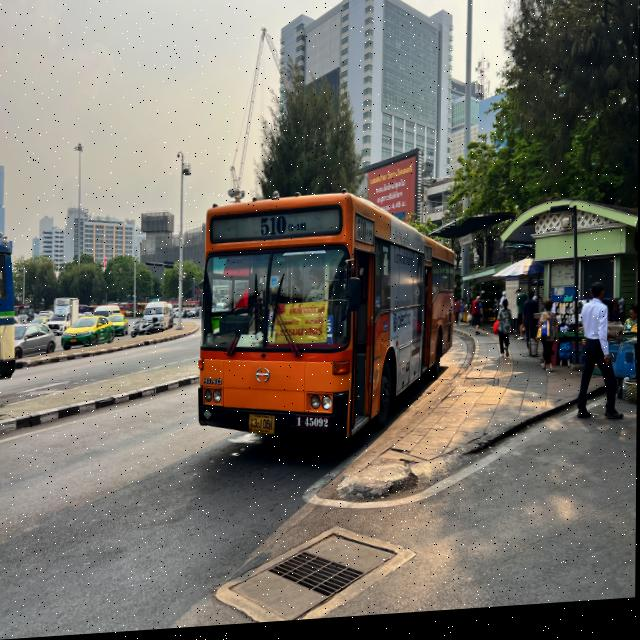BMTA-bus: (193, 182, 459, 453)
Bus Line Number: (259, 218, 310, 240)
Bus Side Number: (296, 417, 330, 435)
Destination Sign: (271, 305, 328, 349)
